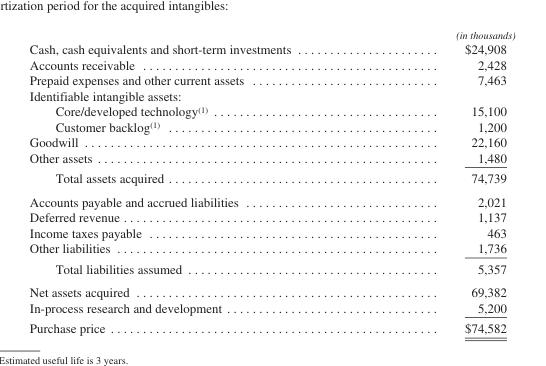table: (28, 28, 514, 335)
table column: (28, 28, 372, 335), (372, 28, 514, 335)
table column header: (28, 28, 514, 40)
table projected row header: (28, 87, 514, 103)
table row: (28, 167, 514, 189), (28, 258, 514, 280), (28, 189, 514, 209), (28, 280, 514, 299), (28, 149, 514, 167), (28, 240, 514, 258), (28, 299, 514, 317), (28, 317, 514, 335), (28, 40, 514, 56), (28, 56, 514, 72), (28, 87, 514, 103), (28, 118, 514, 134), (28, 224, 514, 240), (28, 72, 514, 87), (28, 103, 514, 118), (28, 134, 514, 149), (28, 209, 514, 224), (28, 28, 514, 40)
